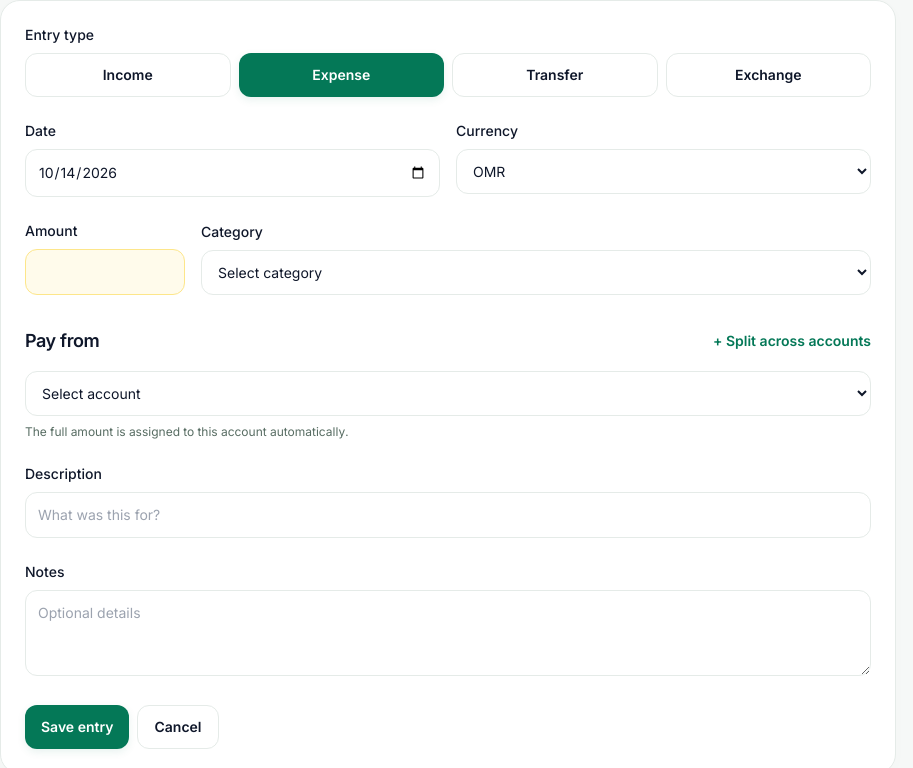
shows parent categories first and clears the optional child when parent changes
Check: the field labelled "Subcategory (optional)" is not shown
Check: the option "Dining" is not shown
Select "Food" in the dropdown labelled "Category". click: (536, 272)
box: [201,250,871,295]
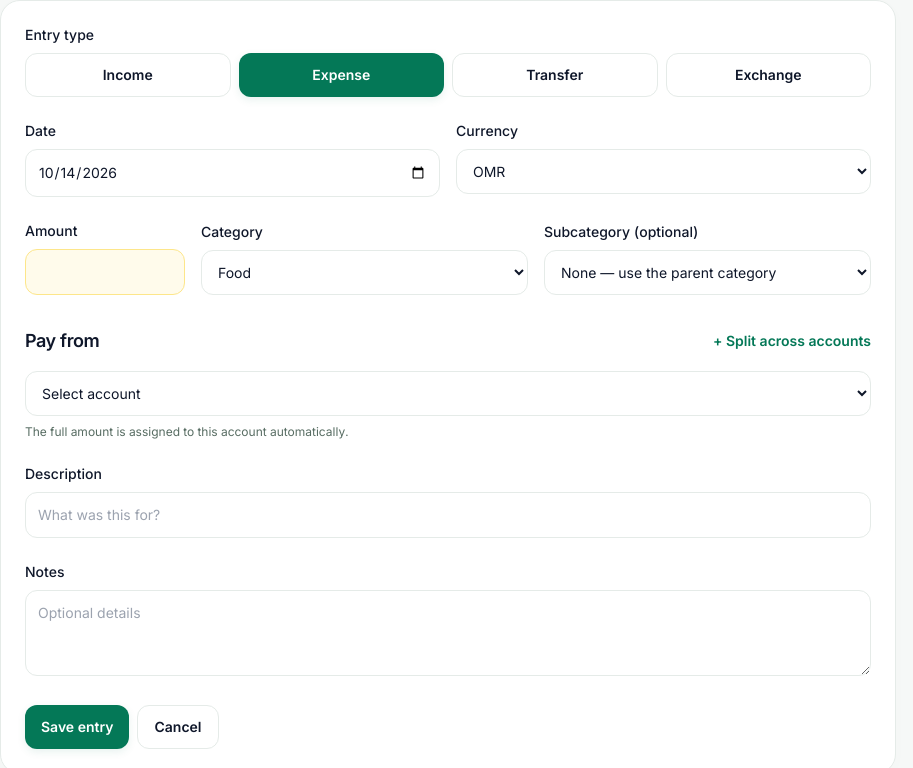
Select "Dining" in the dropdown labelled "Subcategory (optional)". click: (708, 272)
box: [544,250,871,295]
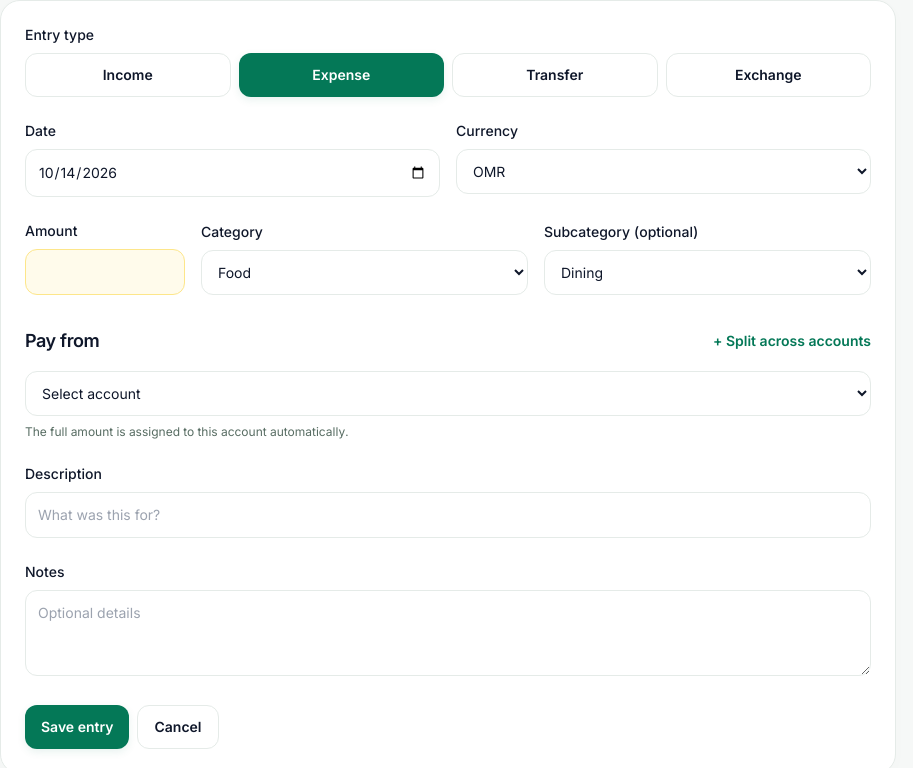
Select "Travel" in the dropdown labelled "Category". click: (364, 272)
box: [201,250,528,295]
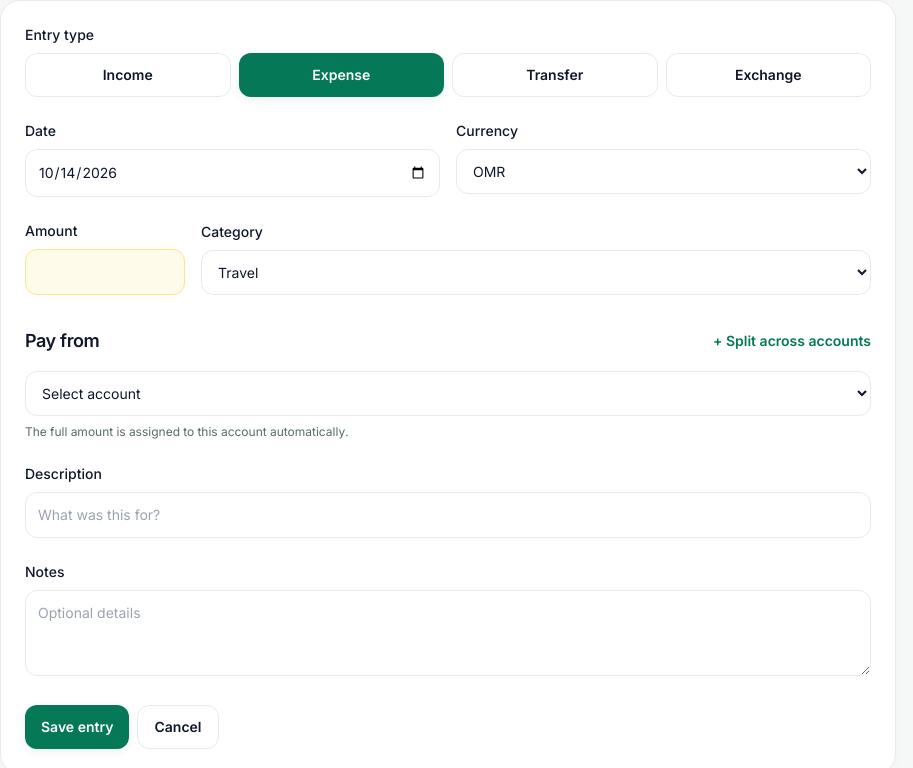
Check: the label labelled "Subcategory (optional)" is gone
Select "Food" in the dropdown labelled "Category". click: (536, 272)
box: [201,250,871,295]
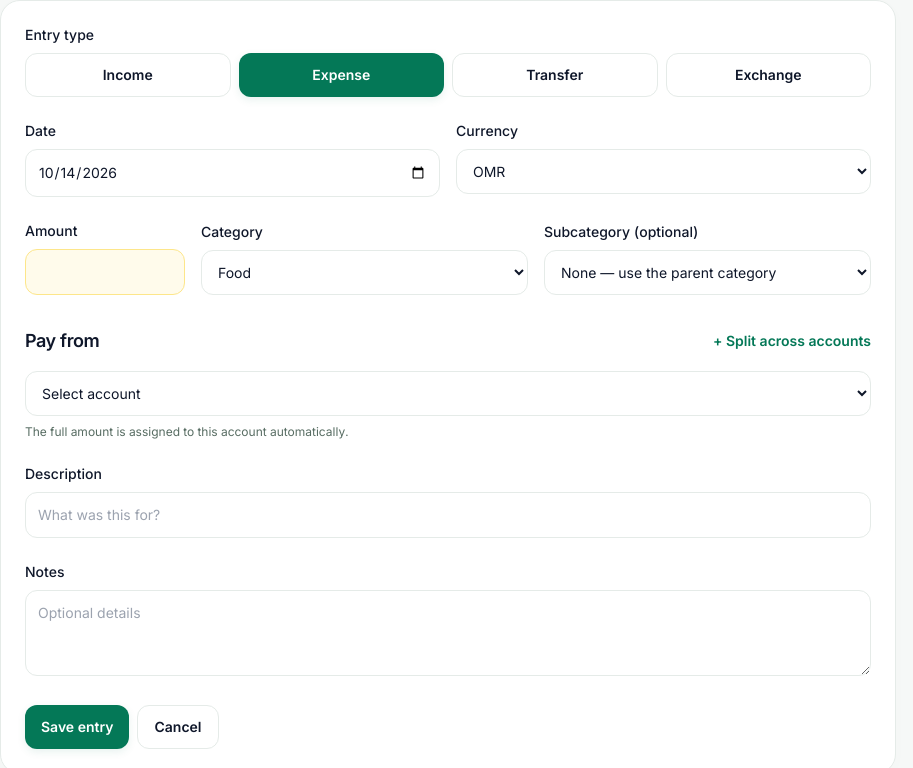
Check: the dropdown labelled "Subcategory (optional)" shows "None — use the parent category", box [544,250,871,295]
